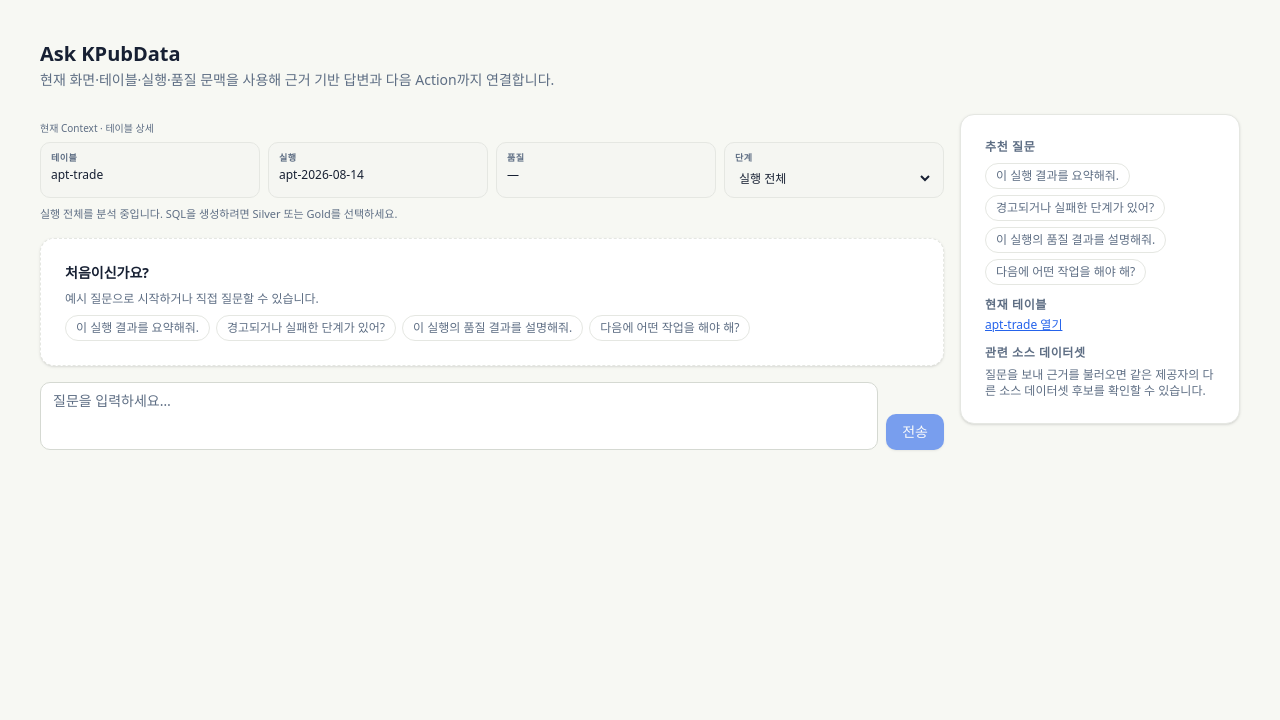
Scenario: ADD_REPORT_BLOCK approval preview (#256 리뷰 §3) › queues nothing when the user rejects instead of approving
Type "가격 결측 요약해줘" into the text box named "Ask KPubData 에 질문하기" at (459, 416), box [40,382,878,450]
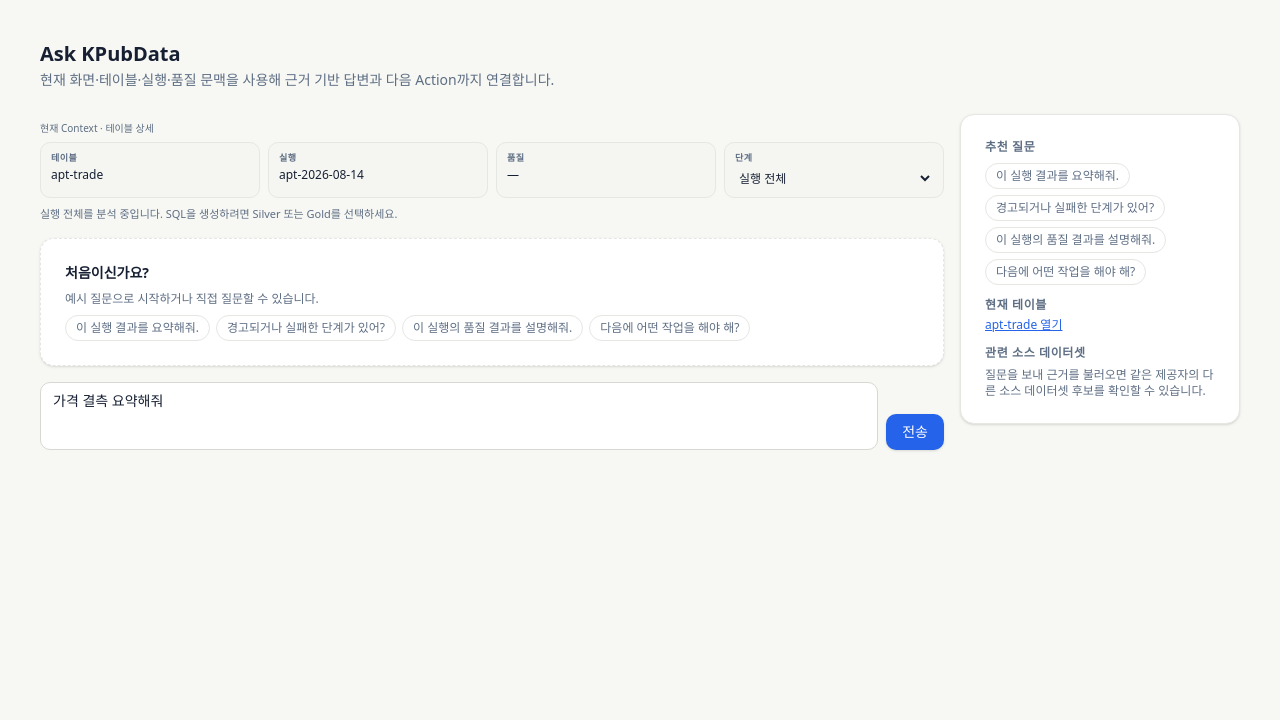
Submit the form named "Ask KPubData 에 질문하기", box [40,382,944,450]
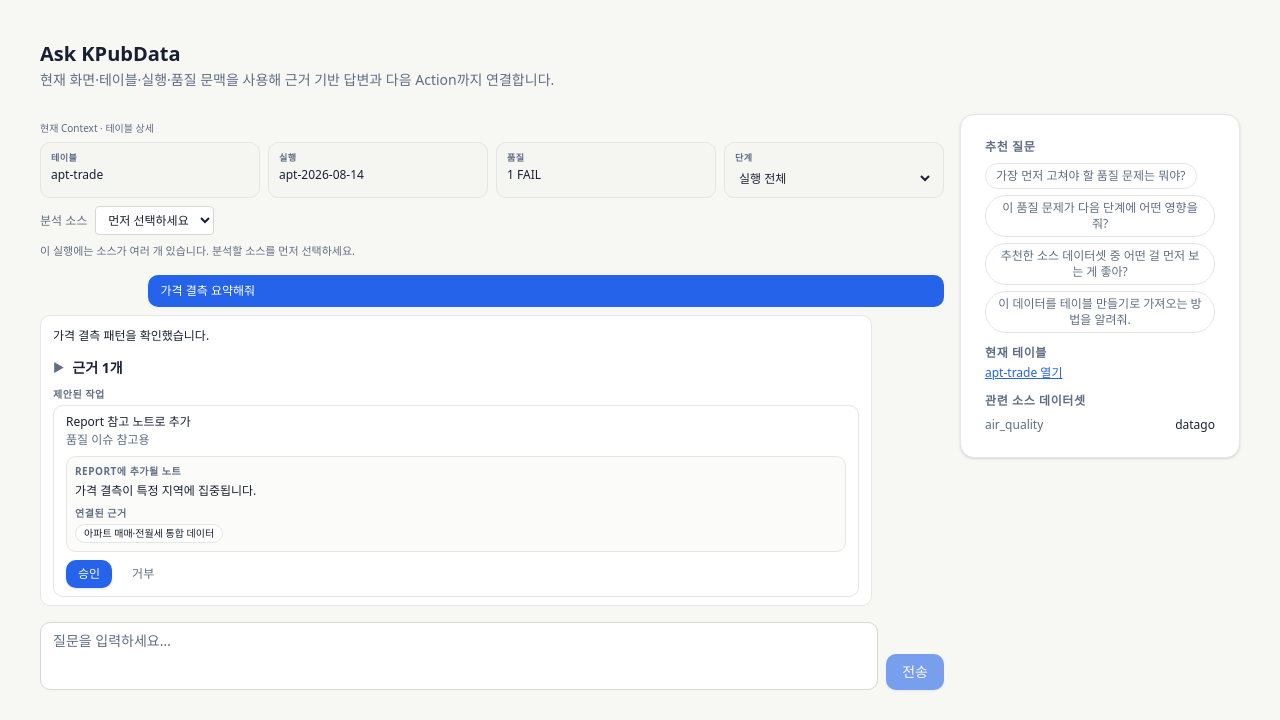
Expected: the button "승인" is shown, [66,560,112,588]
Click the button "거부" at (143, 574), box [120,560,166,588]
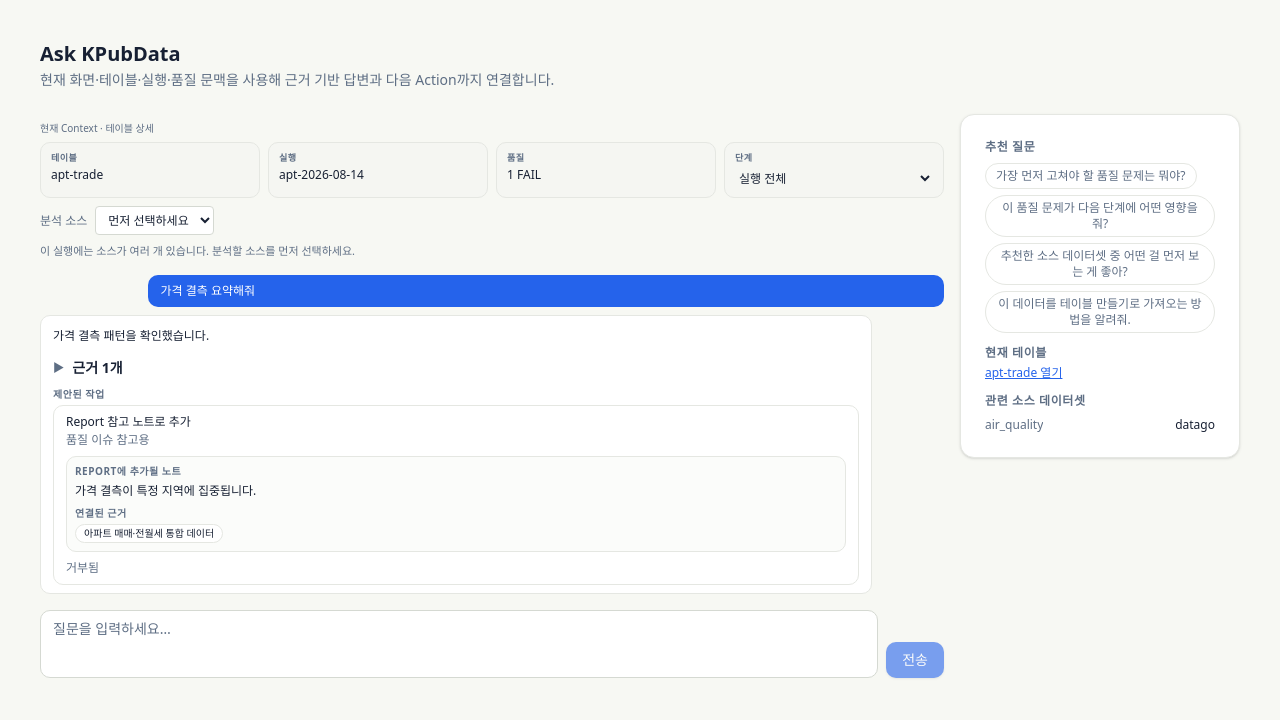
Expected: the text "거부됨" is shown, [66,560,99,576]
